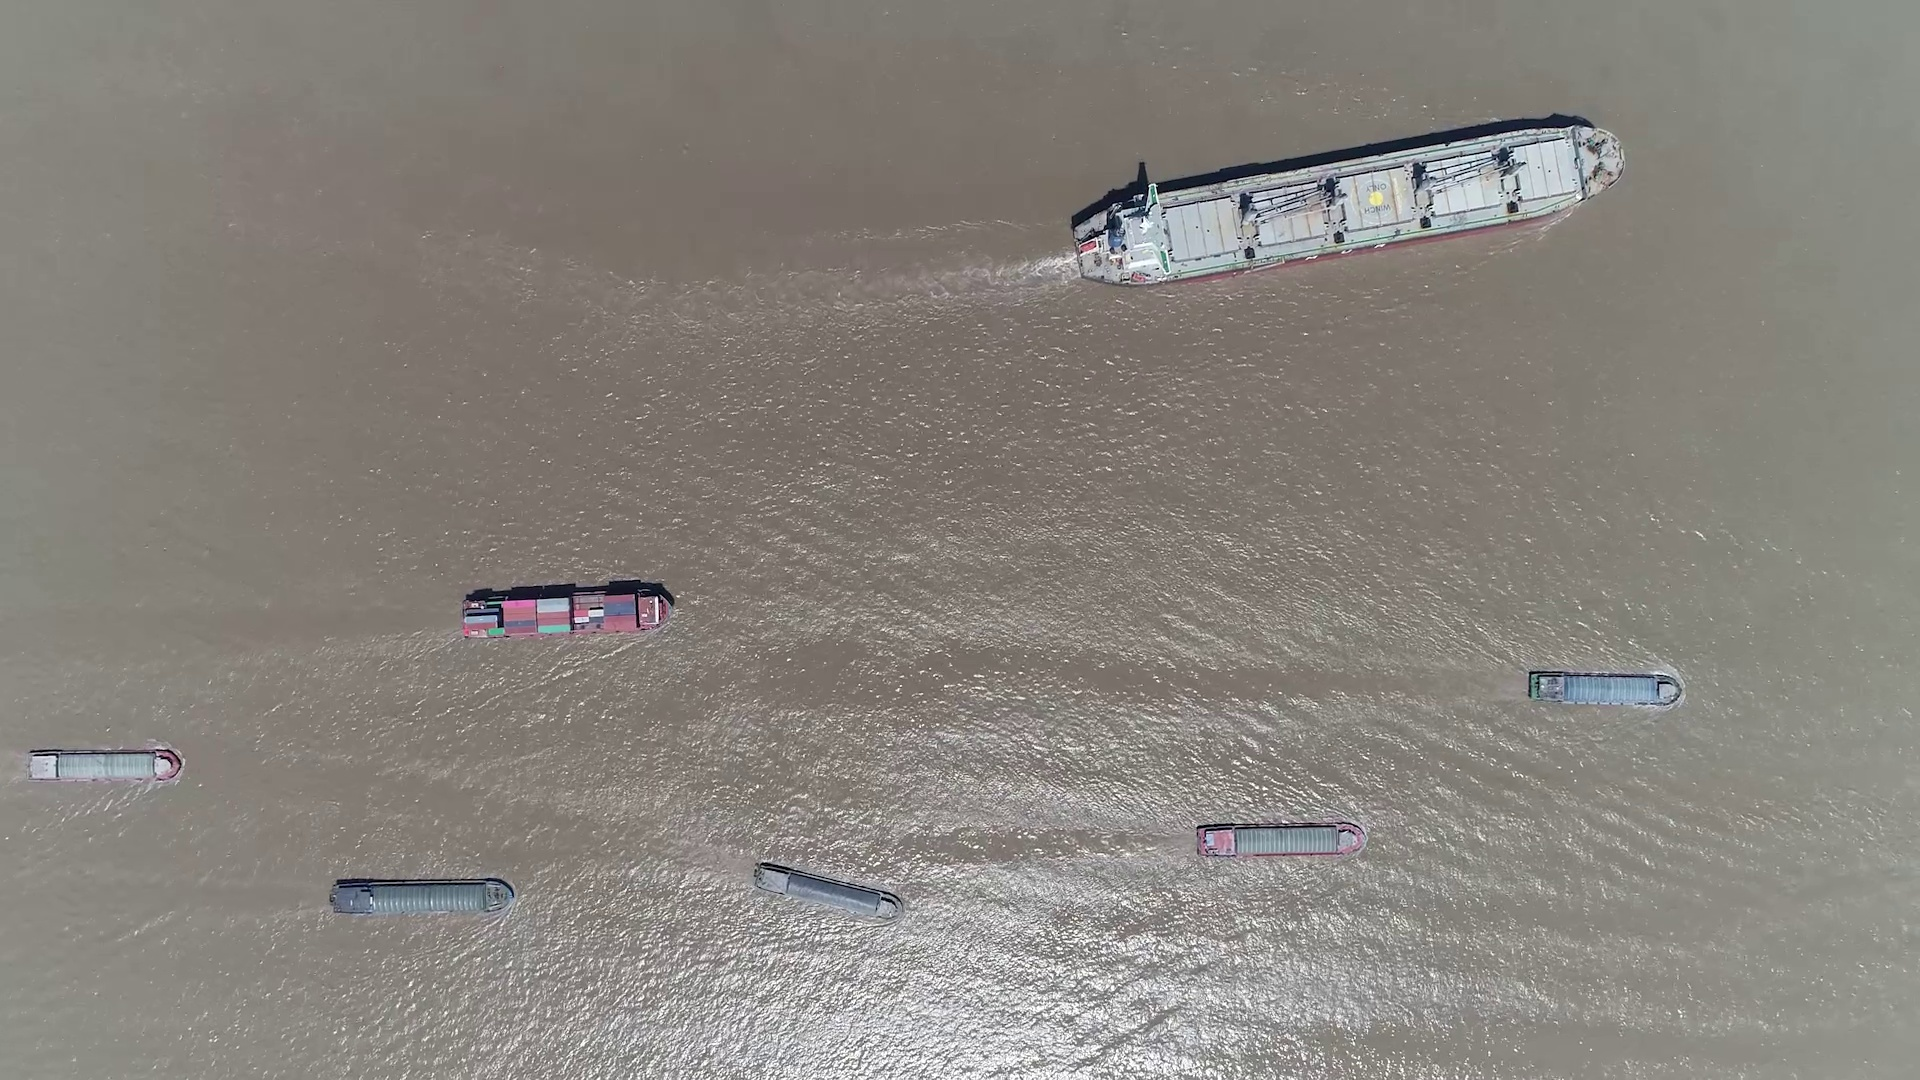ship: (1071, 127, 1626, 284), (460, 585, 673, 640), (753, 862, 902, 919), (330, 878, 513, 916), (1199, 822, 1366, 858), (1527, 669, 1683, 707), (26, 748, 182, 781)
